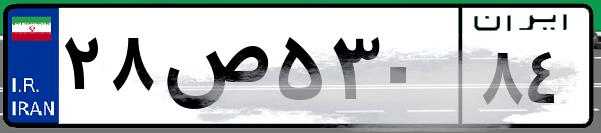0: (385, 28, 445, 110)
2: (57, 26, 110, 100)
3: (330, 28, 385, 110)
4: (525, 38, 570, 115)
5: (270, 28, 330, 110)
8: (475, 38, 525, 113), (110, 28, 158, 98)
ص: (158, 20, 270, 120)
